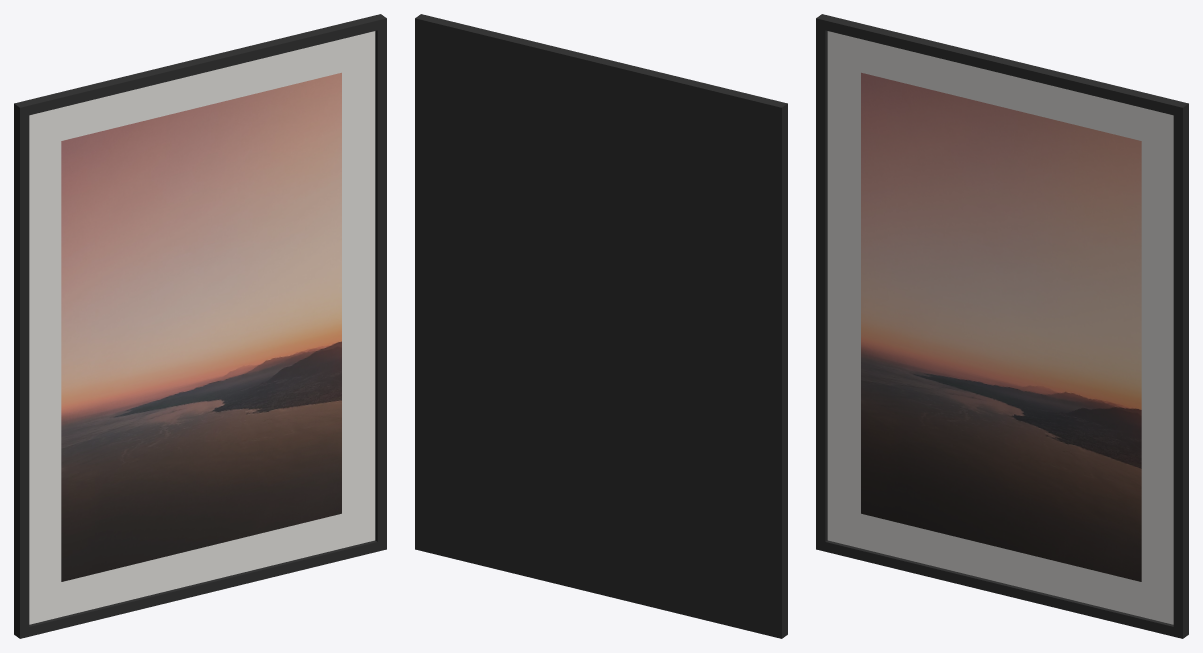
The model's file is fran-ovan-90.gltf.
3 renders of one model, left to right at view 1: azimuth 30°, elevation 25°; view 2: azimuth 150°, elevation 25°; view 3: azimuth 330°, elevation 25°, orthographic.
Parts seen in each view (by area): view 1: tavla; view 2: tavla; view 3: tavla.
Boxes of the visible parts, left/top/right/bottom form: tavla: left=14, top=14, right=386, bottom=638; tavla: left=415, top=14, right=787, bottom=638; tavla: left=816, top=14, right=1188, bottom=638.
Size of the model in its own units: 0.7834 by 1.08 by 0.022.
3 materials, 1 textured.
